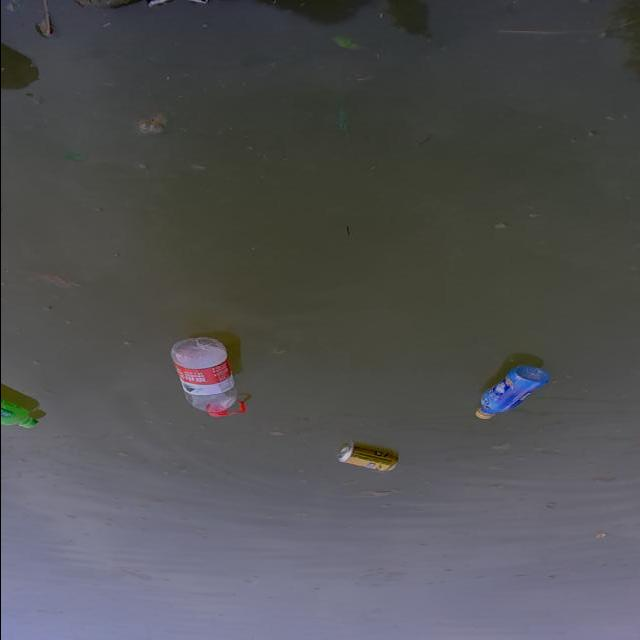bottle: (148, 326, 270, 430), (468, 352, 566, 423), (0, 376, 45, 443)
